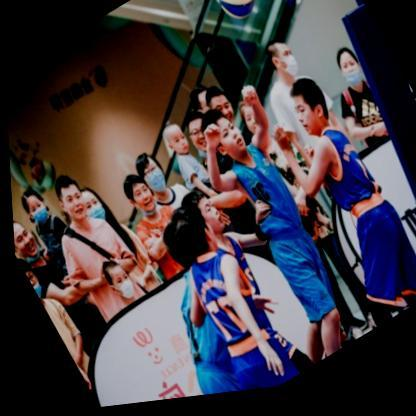basketball: (204, 0, 262, 34)
